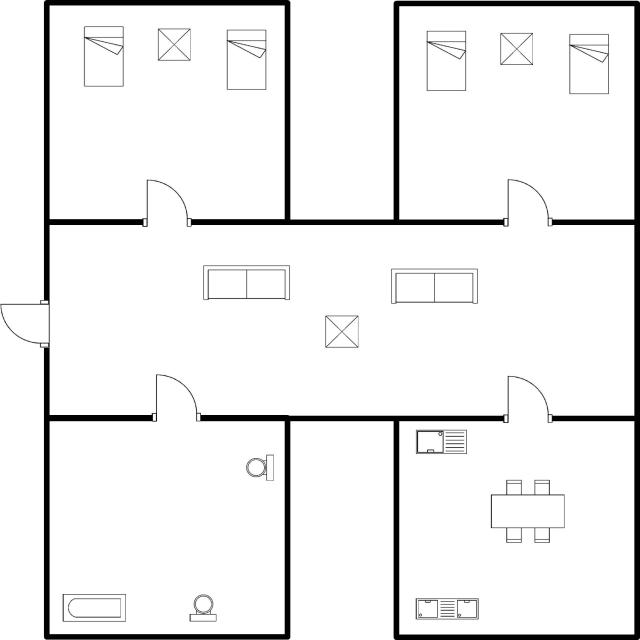bed: (564, 29, 614, 98), (421, 26, 470, 94), (222, 25, 270, 92), (80, 22, 127, 90)
coffee_table: (318, 309, 362, 352), (154, 23, 194, 65), (497, 27, 537, 69)
dining_table: (484, 475, 571, 549)
large_sink: (241, 450, 280, 486), (184, 590, 224, 625)
large_sofa: (385, 263, 482, 308), (198, 261, 294, 305)
sink: (411, 426, 470, 461)
tub: (57, 589, 132, 627)
twin_sink: (412, 594, 482, 623)
